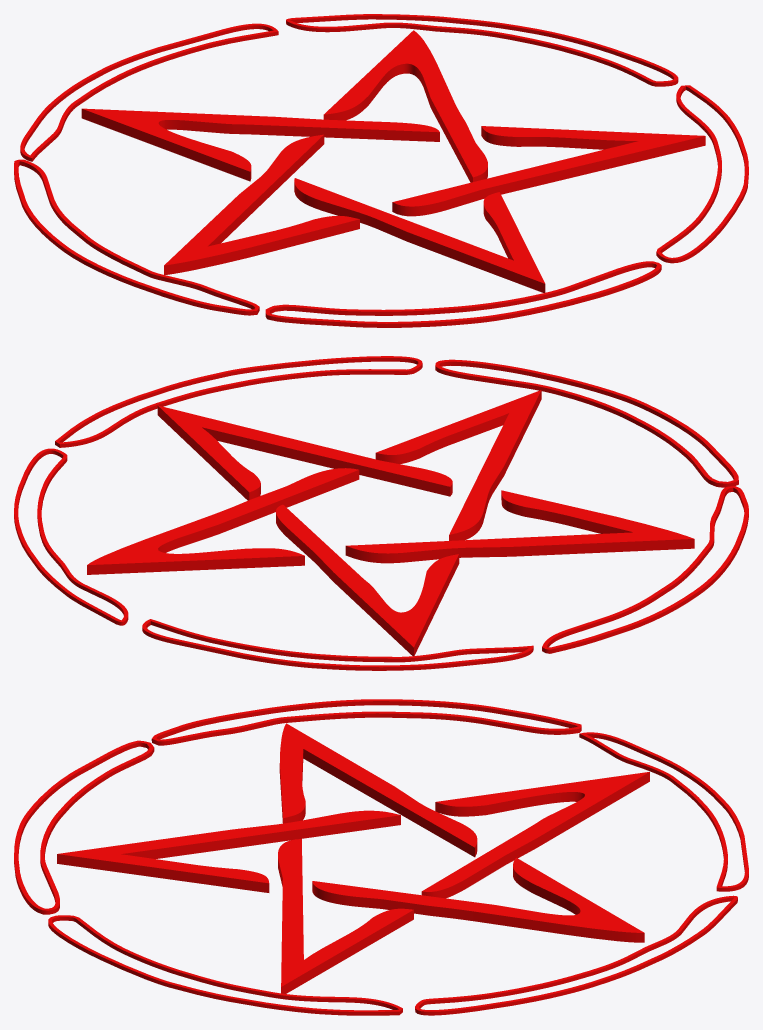
The model's file is Penta.fbx.
The picture shows the model from 3 angles, top to bottom: view 1: azimuth 30°, elevation 25°; view 2: azimuth 150°, elevation 25°; view 3: azimuth 270°, elevation 25°; orthographic projection.
Parts seen in each view (by area): view 1: pent_2_pent_2_0; view 2: pent_2_pent_2_0; view 3: pent_2_pent_2_0.
Boxes of the visible parts, left/top/right/bottom form: pent_2_pent_2_0: left=14, top=14, right=748, bottom=327; pent_2_pent_2_0: left=14, top=356, right=748, bottom=670; pent_2_pent_2_0: left=14, top=699, right=748, bottom=1015.
Bounding box in the file's own units: 3458 × 50.73 × 3441.
